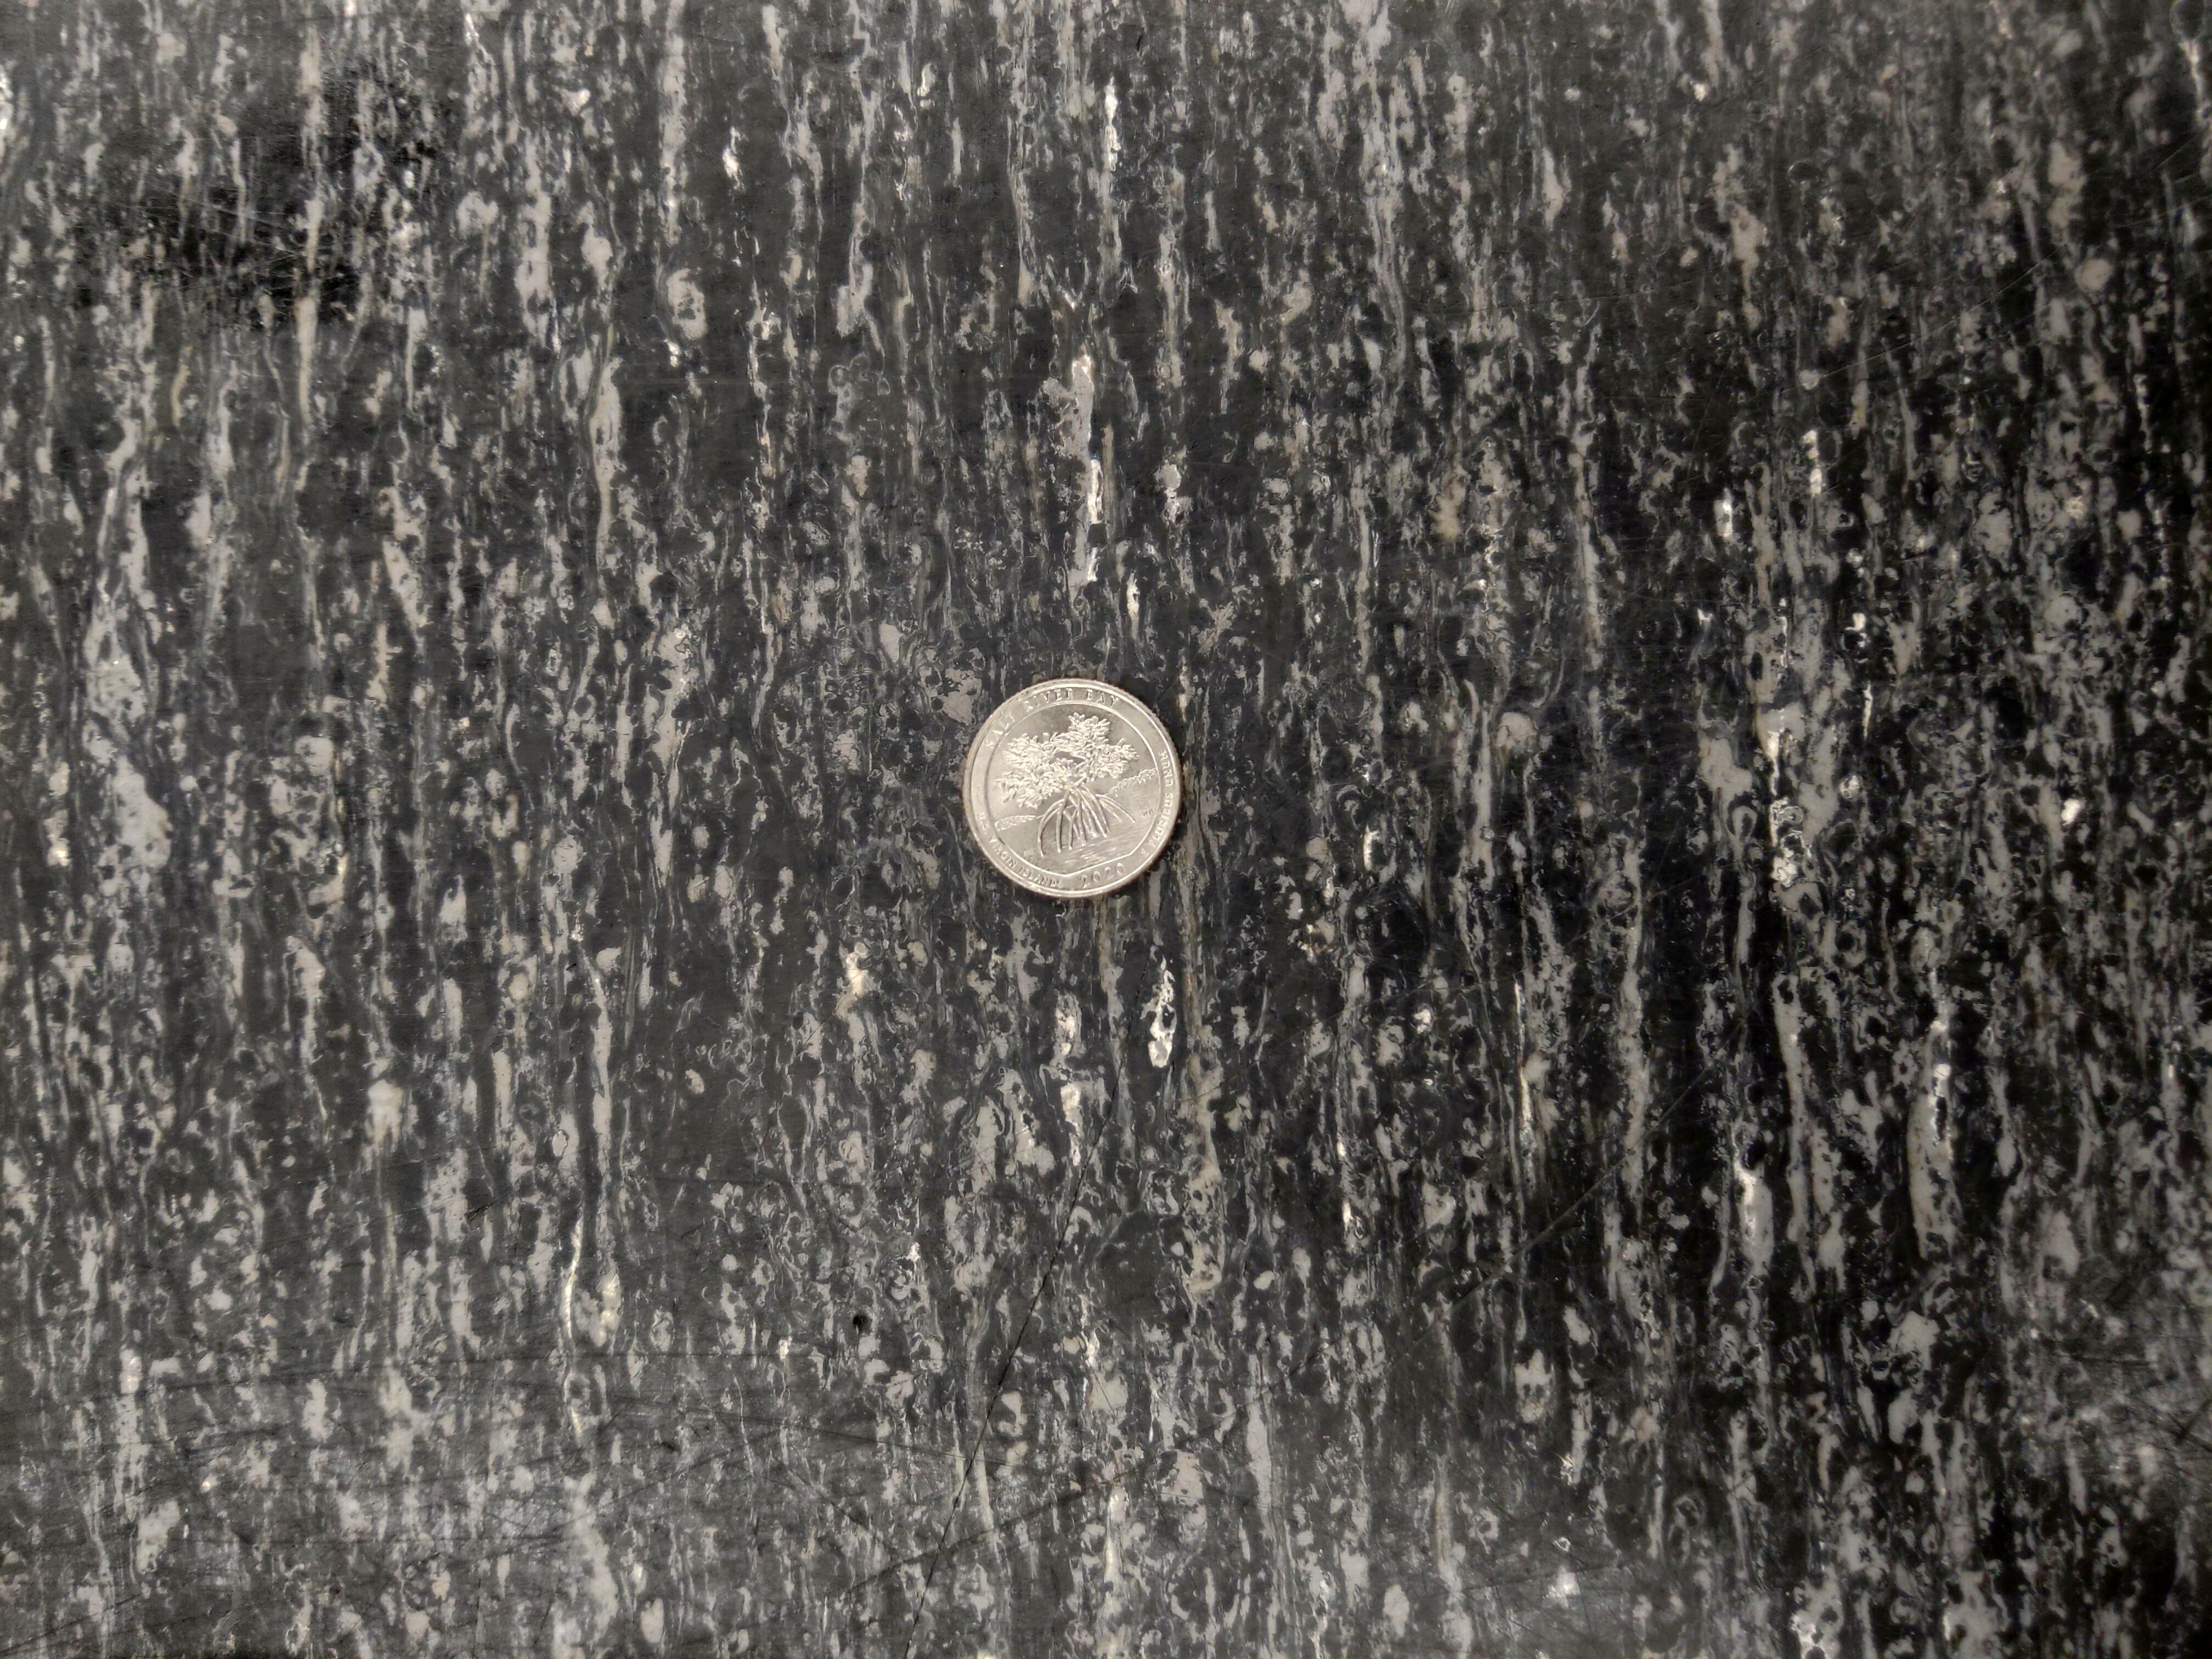Quarter: (956, 680, 1177, 908)
